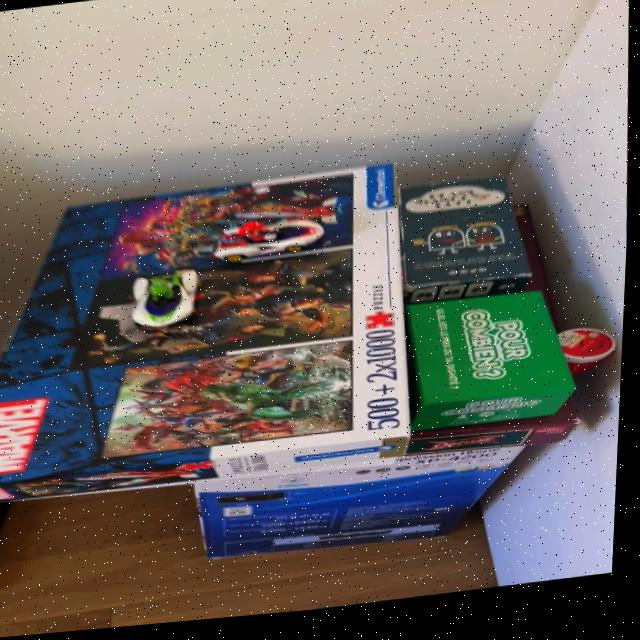mario: (210, 209, 340, 273)
yoshi: (125, 266, 210, 340)
